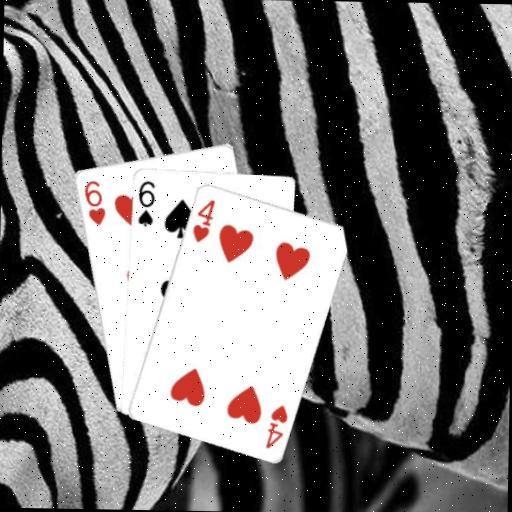4H: (262, 401, 290, 450), (189, 196, 217, 244)
6H: (81, 177, 108, 226)
6S: (135, 177, 157, 228)
